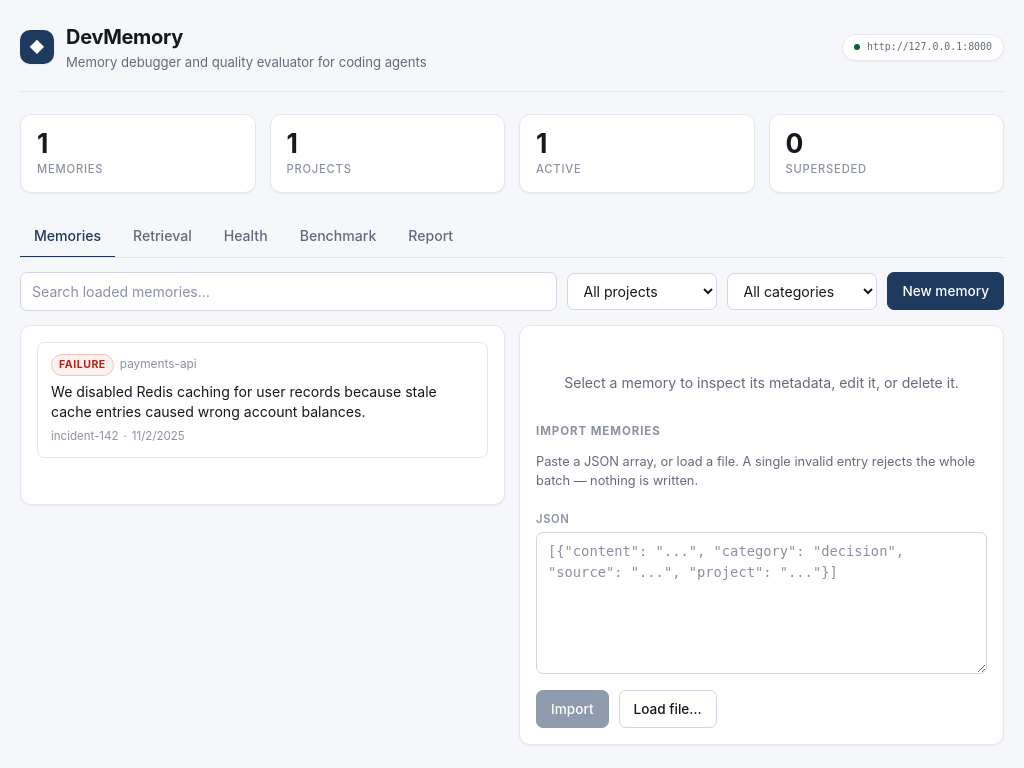
Scenario: retrieval playground › is visible without running anything
Expected: the text "disabled Redis caching" is shown, [51, 383, 437, 420]
Click the tab "Retrieval".
click(162, 236)  # box [119, 214, 206, 258]
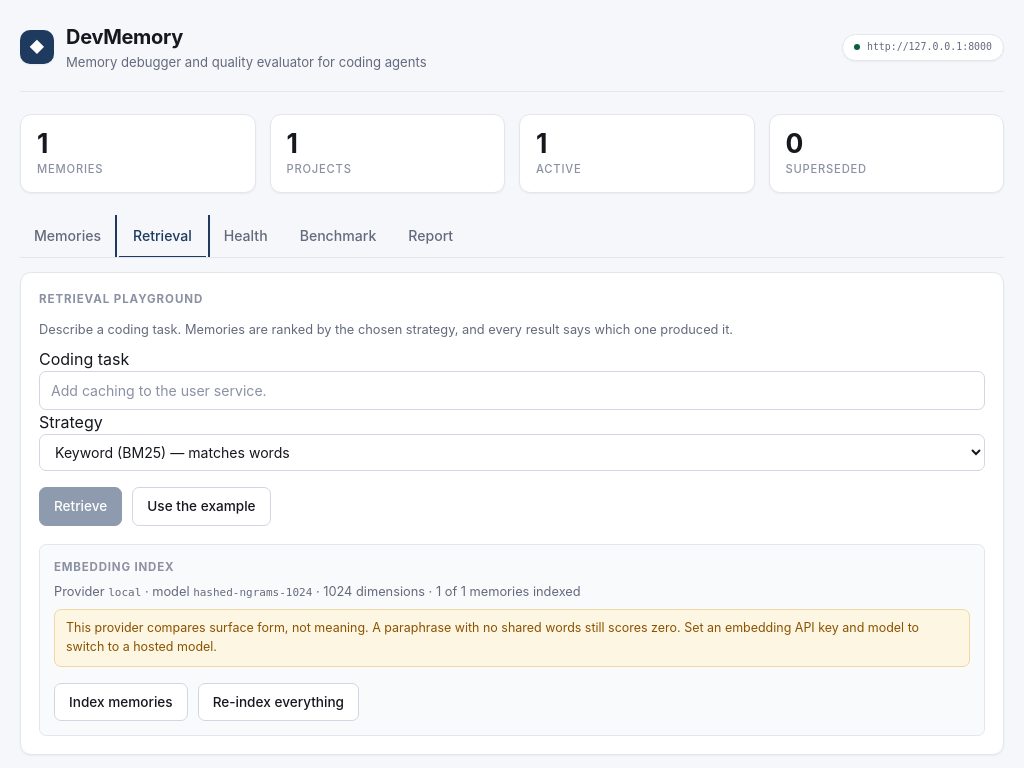
Expected: the field labelled "Coding task" is shown, [39, 371, 985, 410]
Expected: the text "ranked by the chosen strategy" is shown, [39, 322, 733, 337]
